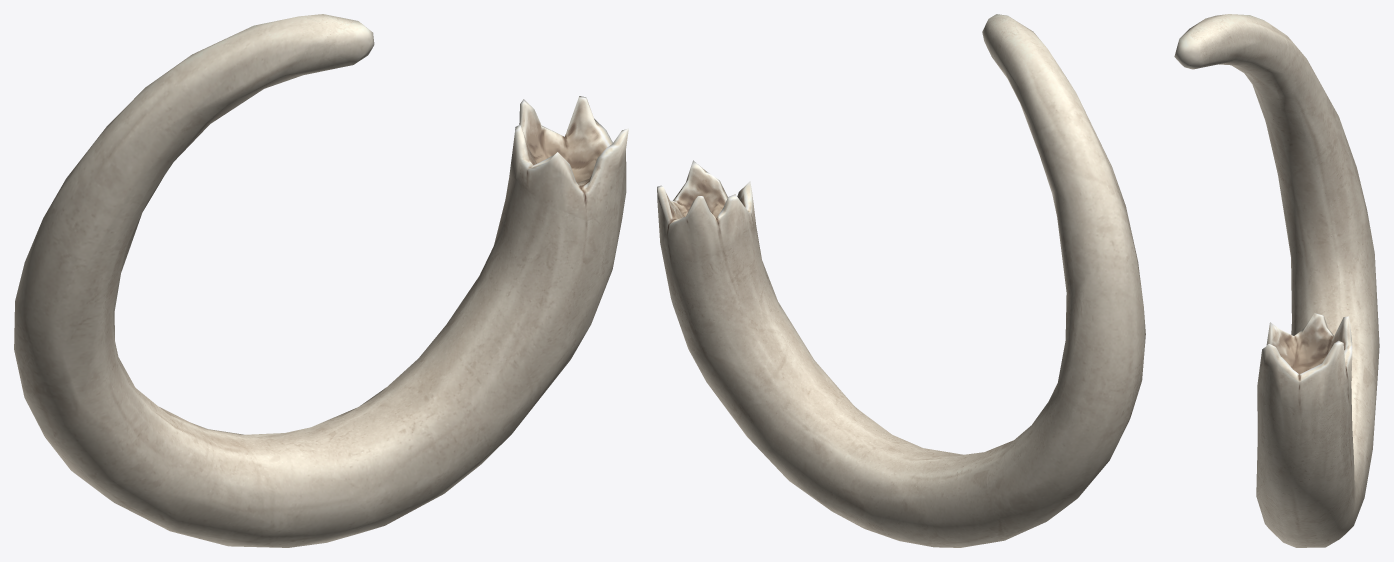
The model's file is SM_Fossil_5.fbx.
3 renders of one model, left to right at view 1: azimuth 30°, elevation 25°; view 2: azimuth 150°, elevation 25°; view 3: azimuth 270°, elevation 25°, orthographic. The views are drawn at different scales.
Parts seen in each view (by area): view 1: SM_Fossil_5; view 2: SM_Fossil_5; view 3: SM_Fossil_5.
Boxes of the visible parts, <box> form: SM_Fossil_5: <box>14,14,628,547</box>; SM_Fossil_5: <box>657,14,1145,547</box>; SM_Fossil_5: <box>1174,14,1379,547</box>.
Bounding box in the file's own units: 0.7629 × 0.7286 × 0.2839.
